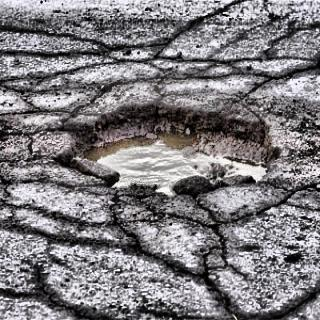pothole: (42, 97, 298, 198)
